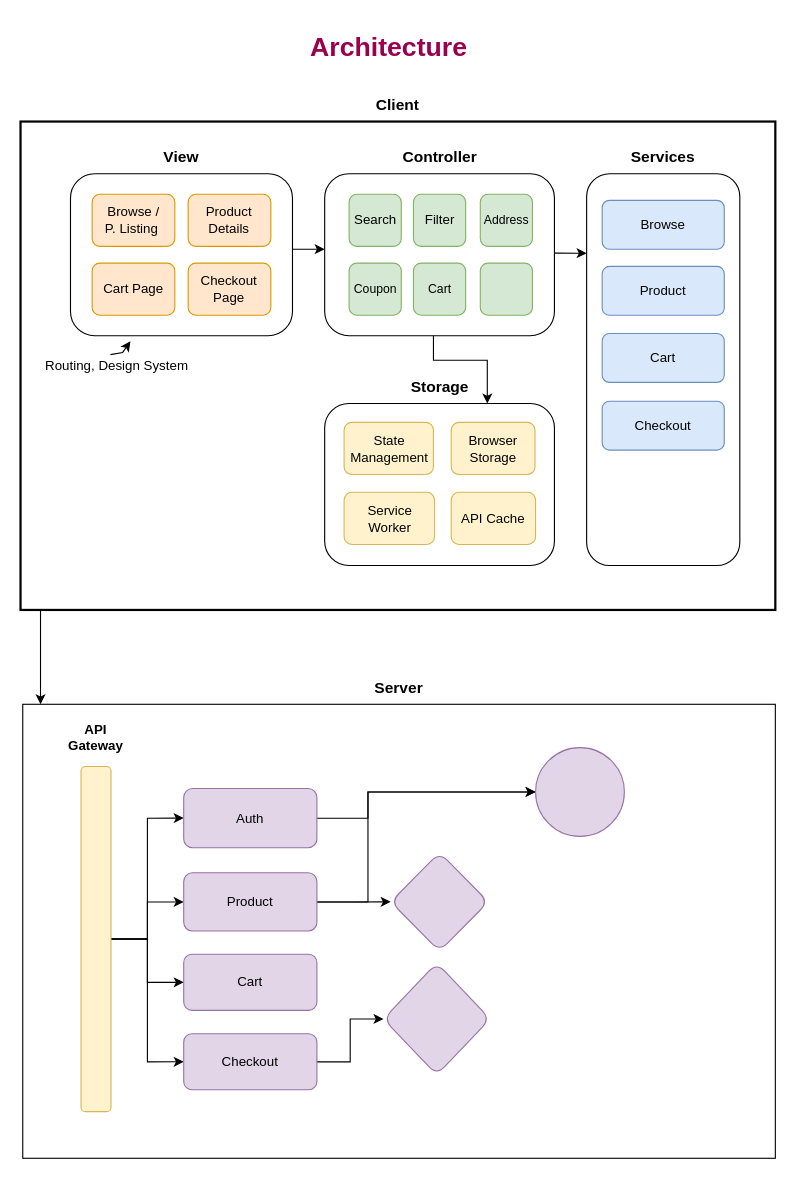
Image size: 795x1178. Some labels were removed from this diagram. The box of each missing label's shape, as (x1, y1, x2, y2) in pixels:
CDN: (390, 851, 488, 951)
Database: (534, 746, 624, 836)
Payment Gateway: (382, 962, 490, 1075)
